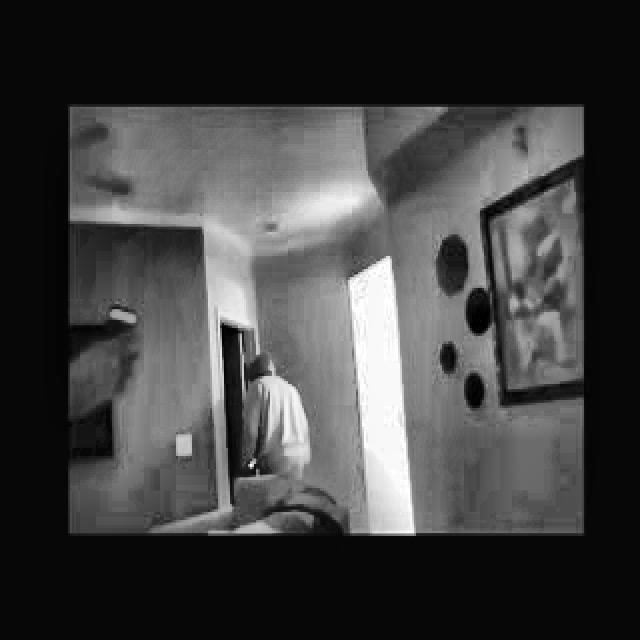burglary: (215, 314, 318, 532)
